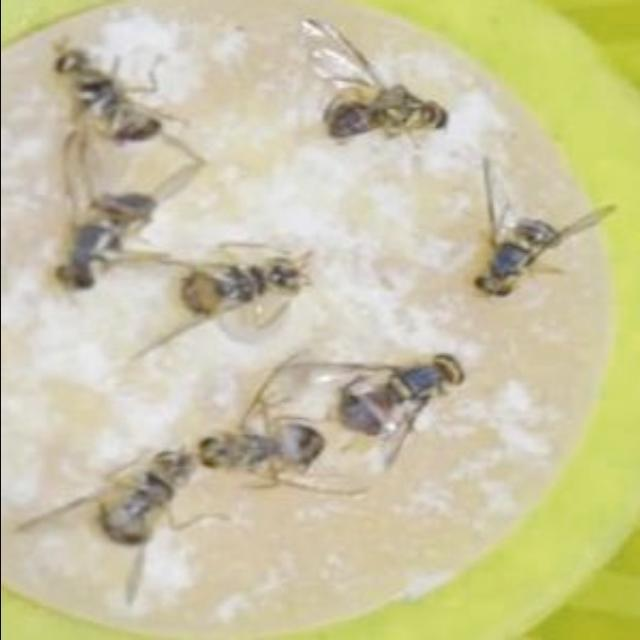melon fly: (48, 426, 204, 610), (171, 366, 345, 516), (2, 26, 200, 154), (446, 182, 610, 336), (27, 178, 181, 302), (163, 236, 325, 350), (338, 342, 477, 470), (331, 71, 479, 177)
